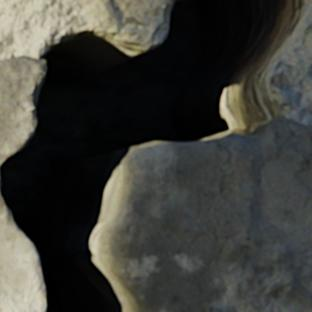broken_brick: (100, 116, 311, 311), (0, 195, 45, 311), (0, 56, 45, 163)
crack: (0, 0, 310, 311)
